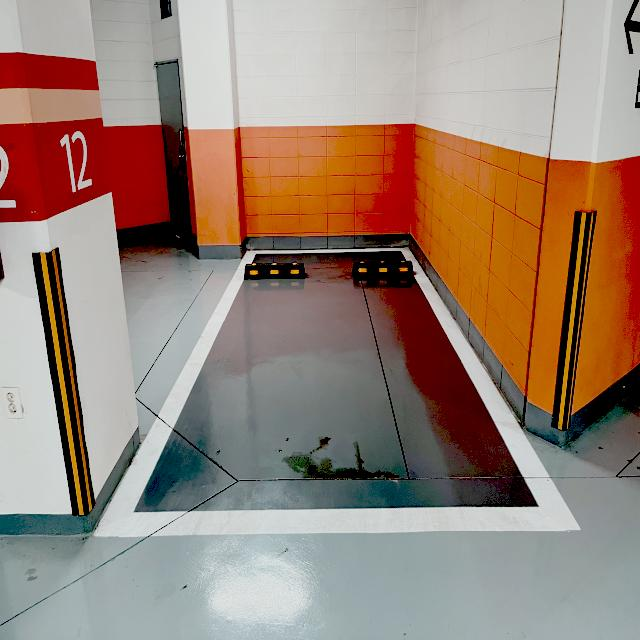empty: (78, 239, 598, 543)
